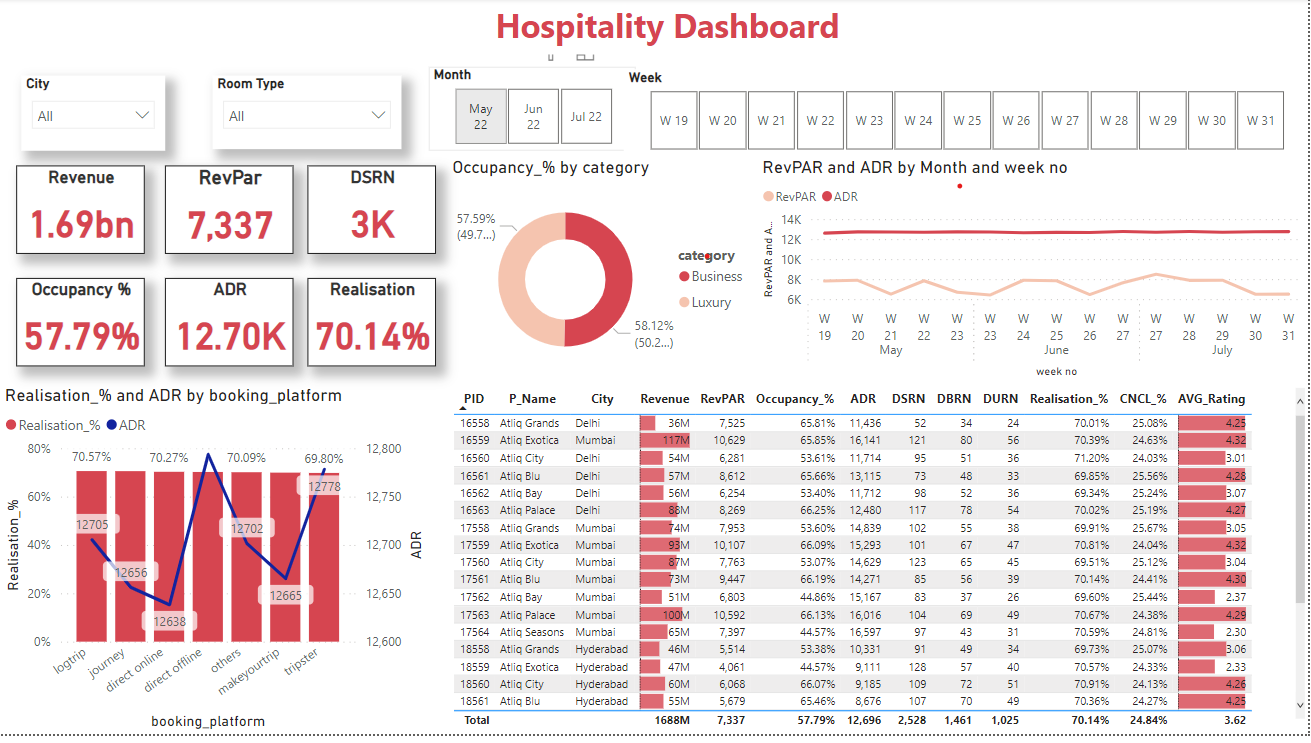

What the dashboard file says about the page in this screenshot:
{"tool":"powerbi","page":{"name":"Page 1","canvas":[1280,720],"ordinal":0},"visuals":[{"type":"tableEx","fields":{"Values":["dim_hotels.property_id","dim_hotels.property_name","dim_hotels.city","key_measures.Revenue","key_measures.RevPAR","key_measures.Occupancy_%","key_measures.ADR","key_measures.DSRN","key_measures.DBRN","key_measures.DURN","key_measures.Realisation_%","key_measures.Cancellation_%"]},"box":[436.5,334.3,843.8,342.3],"z":0},{"type":"slicer","title":"City","fields":{"Values":["dim_hotels.city"]},"box":[0,0,141.1,72.2],"z":1000},{"type":"slicer","title":"Room Type","fields":{"Values":["dim_rooms.room_class"]},"box":[155.9,1.1,183.9,72],"z":2000},{"type":"slicer","title":"Month","fields":{"Values":["dim_date.mmm yy"]},"box":[425.9,4,203,82.3],"z":3000},{"type":"slicer","title":"Week","fields":{"Values":["dim_date.week no"]},"box":[610,0,669.9,85.6],"z":4000},{"type":"card","title":"Revenue","fields":{"Values":["key_measures.Revenue"]},"box":[14.7,85.6,125.9,86.8],"z":5000},{"type":"donutChart","fields":{"Category":["dim_hotels.category"],"Y":["key_measures.Occupancy_%"]},"box":[436.5,86.2,305.1,221.6],"z":6000},{"type":"lineStackedColumnComboChart","fields":{"Category":["fact_bookings.booking_platform"],"Y":["key_measures.Realisation_%"],"Y2":["key_measures.ADR"]},"box":[6.1,334.9,419.3,342.3],"z":7000},{"type":"lineChart","fields":{"Y":["key_measures.RevPAR","key_measures.ADR"],"Category":["dim_date.mmm yy.Variation.Date Hierarchy.Month","dim_date.week no"]},"box":[741,86,539,222],"z":8000},{"type":"card","title":"RevPar","fields":{"Values":["key_measures.RevPAR"]},"box":[160.1,86.8,125.9,86.8],"z":9000},{"type":"card","title":"Occupancy %","fields":{"Values":["key_measures.Occupancy_%"]},"box":[14.7,204.1,125.9,86.8],"z":10000},{"type":"card","title":"ADR","fields":{"Values":["key_measures.ADR"]},"box":[160.1,204.1,125.9,86.8],"z":11000},{"type":"card","title":"DSRN","fields":{"Values":["key_measures.DSRN"]},"box":[299.5,85.6,125.9,86.8],"z":12000},{"type":"card","title":"Realisation","fields":{"Values":["key_measures.Realisation_%"]},"box":[299.5,202.9,125.9,86.8],"z":13000}]}

Visuals, with their boxes in screenshot pixels (x1, y1, x2, y2), scaled from the page's 1280x720 canvas onto the 1311x743 screenshot:
tableEx - dim_hotels.property_id x dim_hotels.property_name: [left=447, top=345, right=1310, bottom=698]
"City" slicer: [left=0, top=0, right=145, bottom=75]
"Room Type" slicer: [left=160, top=1, right=348, bottom=75]
"Month" slicer: [left=436, top=4, right=644, bottom=89]
"Week" slicer: [left=625, top=0, right=1310, bottom=88]
"Revenue" card: [left=15, top=88, right=144, bottom=178]
donutChart - dim_hotels.category x key_measures.Occupancy_%: [left=447, top=89, right=760, bottom=318]
lineStackedColumnComboChart - fact_bookings.booking_platform x key_measures.Realisation_%: [left=6, top=346, right=436, bottom=699]
lineChart - key_measures.RevPAR x key_measures.ADR: [left=759, top=89, right=1310, bottom=318]
"RevPar" card: [left=164, top=90, right=293, bottom=179]
"Occupancy %" card: [left=15, top=211, right=144, bottom=300]
"ADR" card: [left=164, top=211, right=293, bottom=300]
"DSRN" card: [left=307, top=88, right=436, bottom=178]
"Realisation" card: [left=307, top=209, right=436, bottom=299]
